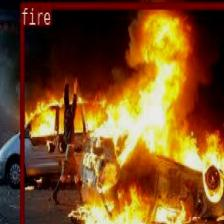fire: (19, 0, 224, 224)
